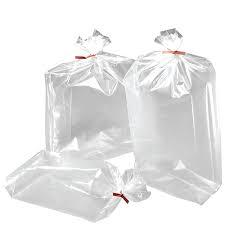Plastic bag: (13, 17, 225, 222)
